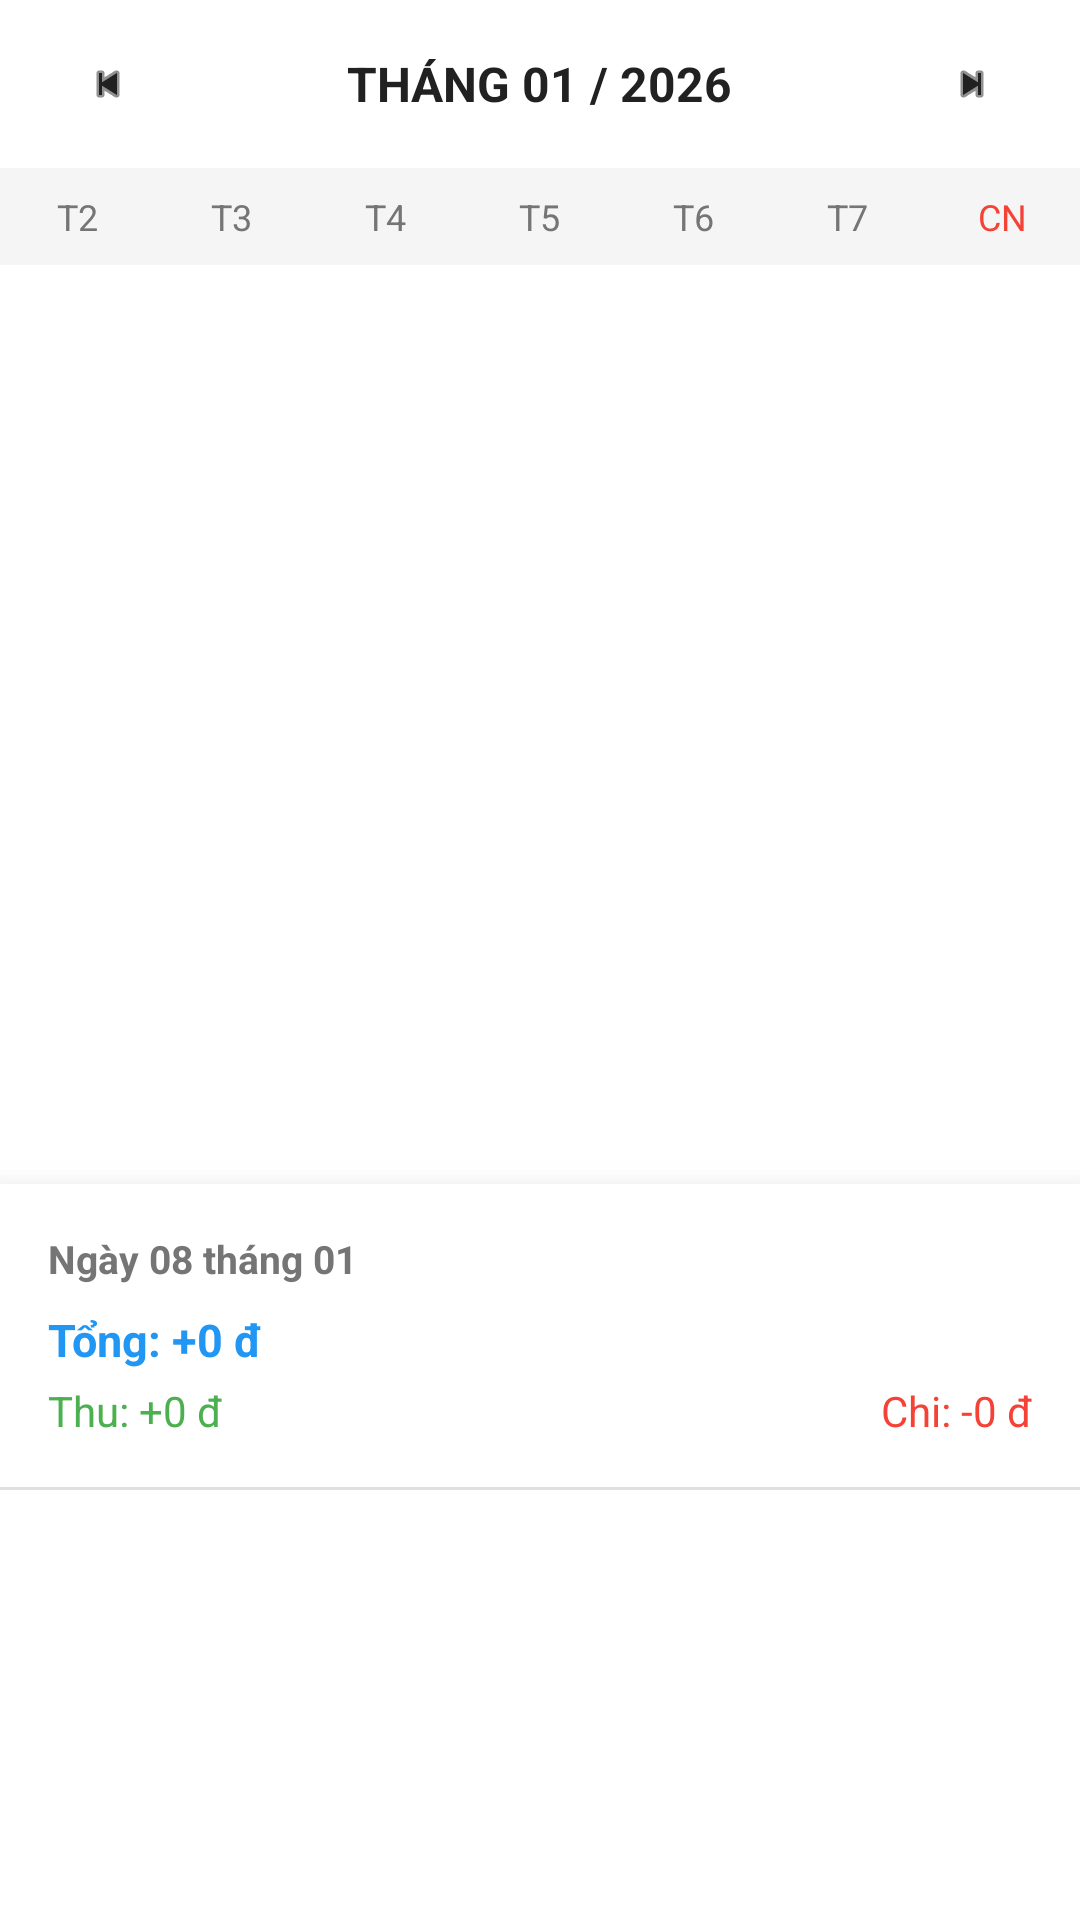

Icons on this 1080px×1920px Android screen, each with its box as (x1, y1, x2, y2):
next: (960, 70, 984, 98)
previous: (96, 70, 120, 98)
